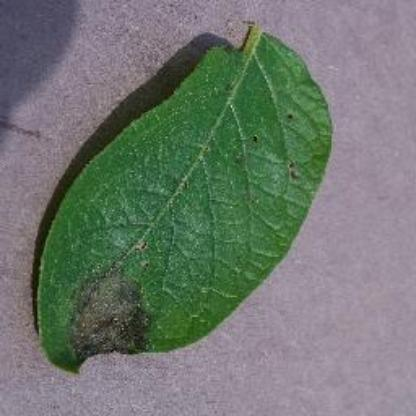Late-Blight: (23, 31, 378, 377)
